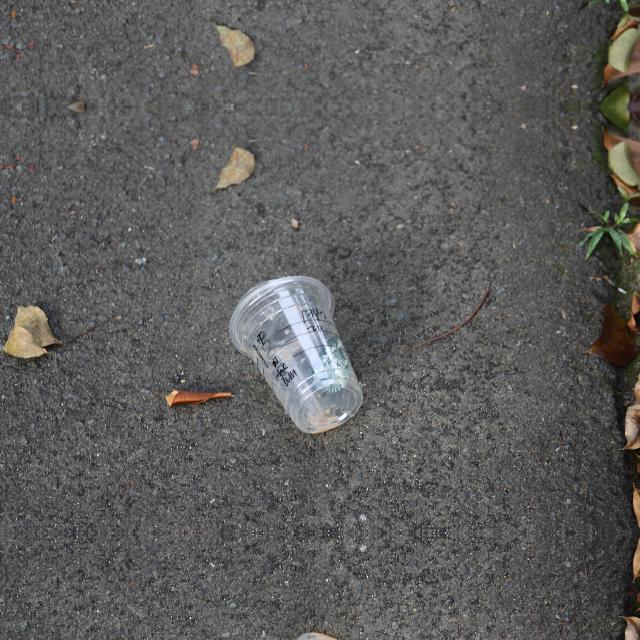Plastic: (229, 274, 365, 436), (229, 630, 365, 640)
